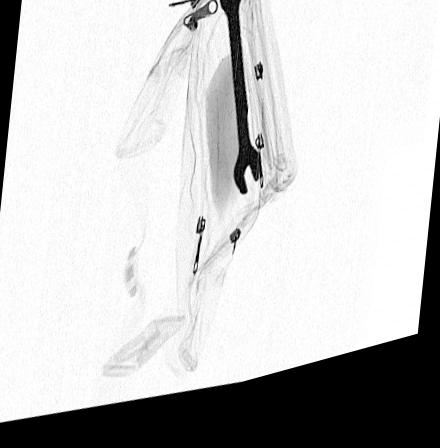Wrench: (219, 0, 262, 207)
